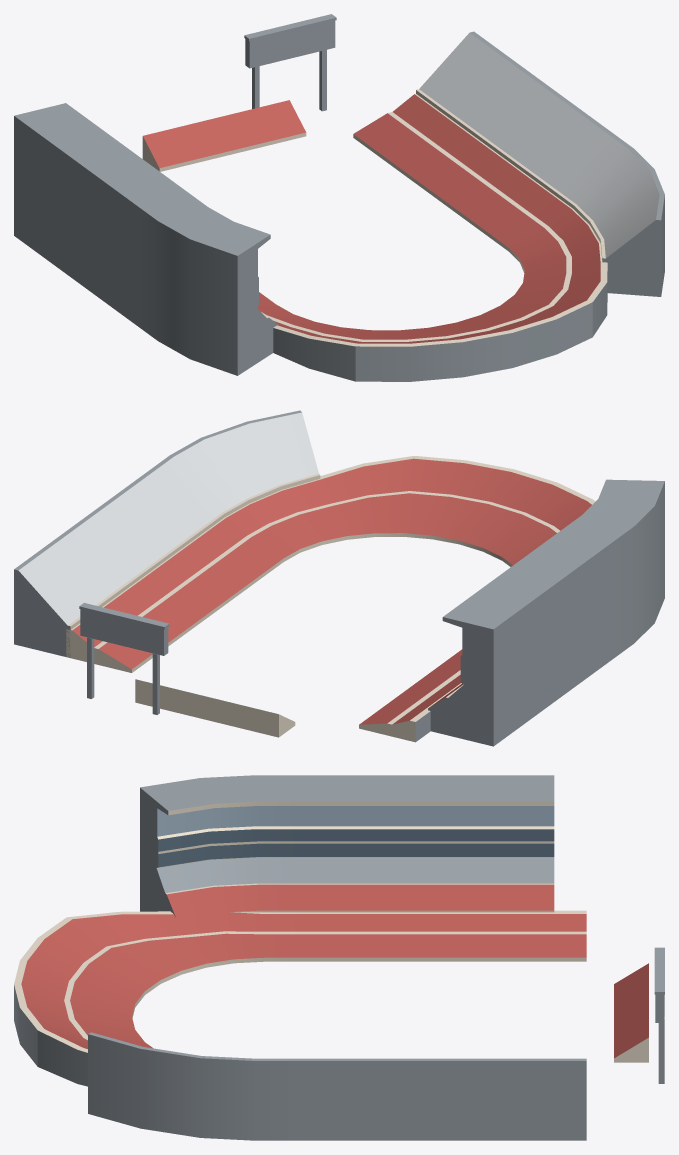
The model's file is cin-nippert-stadium.glb.
The picture shows the model from 3 angles, top to bottom: view 1: azimuth 30°, elevation 25°; view 2: azimuth 150°, elevation 25°; view 3: azimuth 270°, elevation 25°; orthographic projection. The views are drawn at different scales.
Visible parts, largest first — view 1: Nippert Stadium; view 2: Nippert Stadium; view 3: Nippert Stadium.
Part boxes in pixels (left/top/right/bottom): Nippert Stadium: left=14, top=14, right=664, bottom=381; Nippert Stadium: left=14, top=410, right=664, bottom=746; Nippert Stadium: left=14, top=775, right=664, bottom=1140.
Bounding box in the file's own units: 156 × 37.5 × 178.
